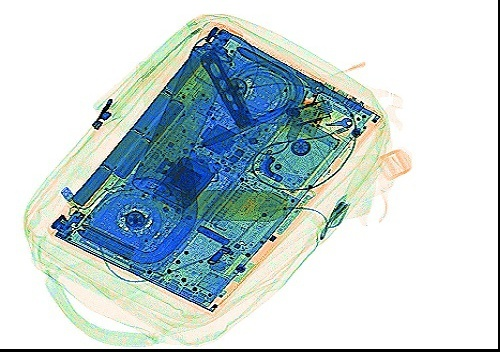knife: (198, 49, 254, 128)
pressure: (130, 20, 243, 198), (177, 186, 297, 222)
